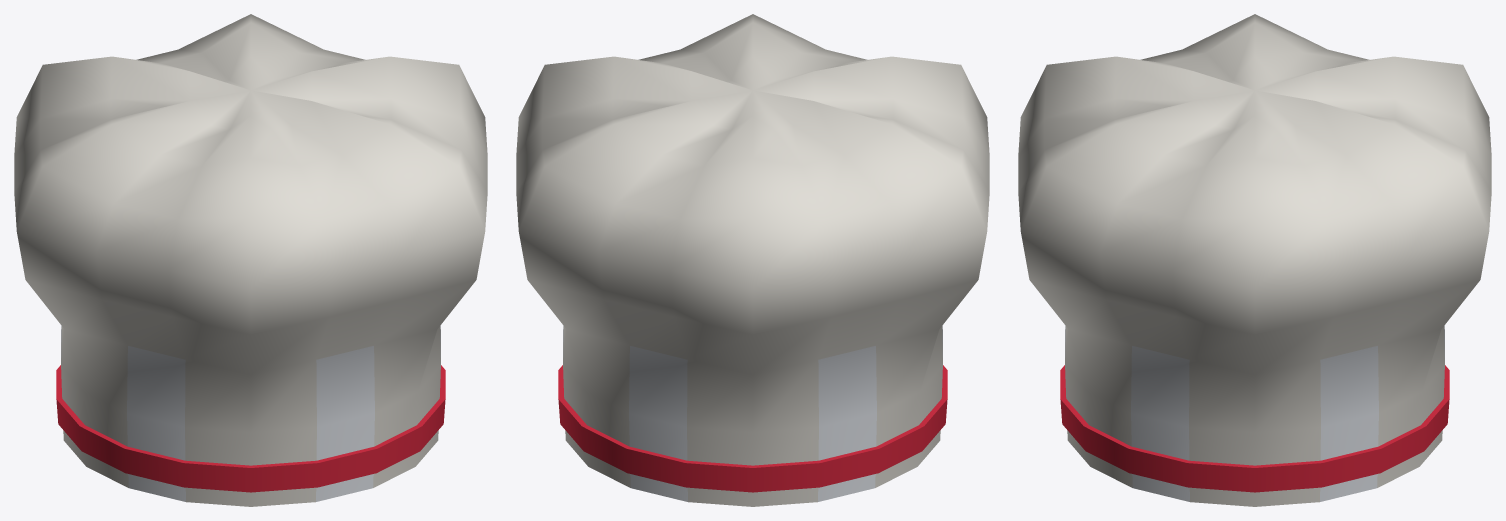
The model's file is H06_ChefHat.fbx.
3 views of the same model, side by side, from view 1: azimuth 30°, elevation 25°; view 2: azimuth 150°, elevation 25°; view 3: azimuth 270°, elevation 25° (orthographic).
Parts seen in each view (by area): view 1: H06_ChefHat; view 2: H06_ChefHat; view 3: H06_ChefHat.
Boxes of the visible parts, x1,y1,x2,y2 form: H06_ChefHat: (14, 14, 487, 506); H06_ChefHat: (516, 14, 989, 506); H06_ChefHat: (1018, 14, 1491, 506).
Size of the model in its own units: 0.5832 by 0.405 by 0.5105.
